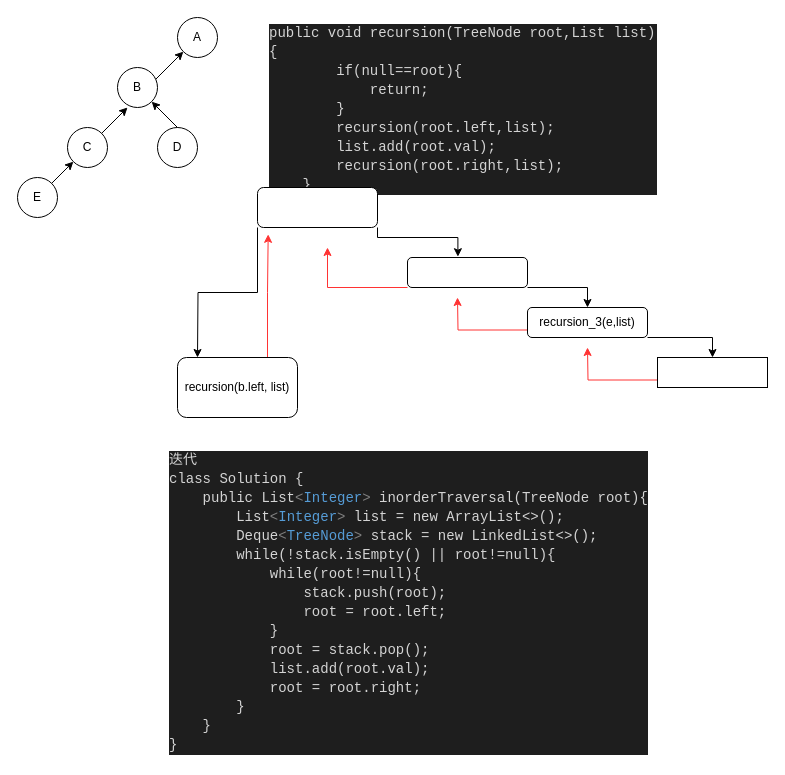
This 785x775 diagram has some shape labels left out. The centre of each missing label's shape, as x and y in pixels:
E节点为 叶子节点: the point at 712,372
recursion_1(b,list): the point at 317,207
recursion_2(c,list): the point at 467,272
